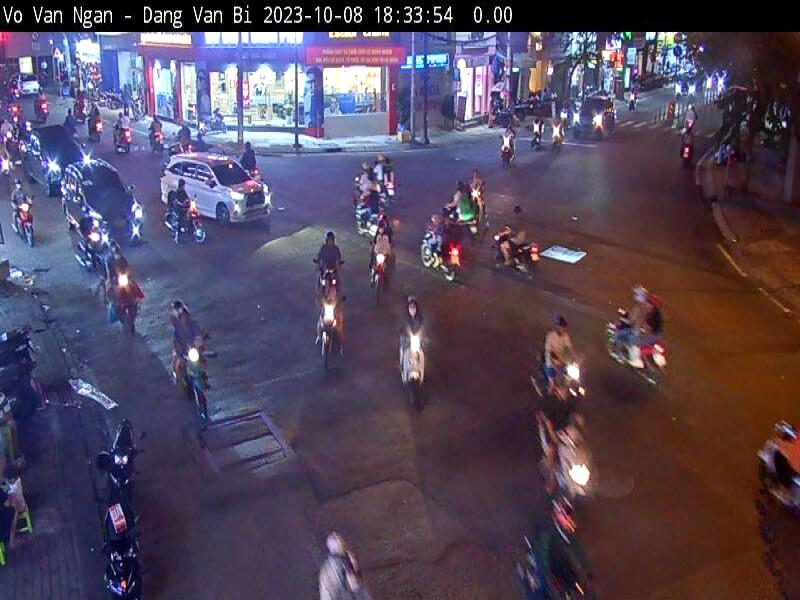car: (158, 146, 277, 229), (54, 147, 148, 246), (17, 117, 63, 203), (564, 94, 625, 148)
motorcycle: (527, 424, 599, 518), (512, 537, 595, 600), (100, 409, 142, 532), (160, 351, 216, 437), (94, 526, 149, 600), (420, 221, 464, 303), (96, 276, 150, 342), (312, 295, 352, 374), (492, 229, 544, 288), (397, 328, 432, 414), (150, 204, 222, 243), (351, 197, 398, 246), (314, 258, 358, 305), (368, 251, 396, 305)
